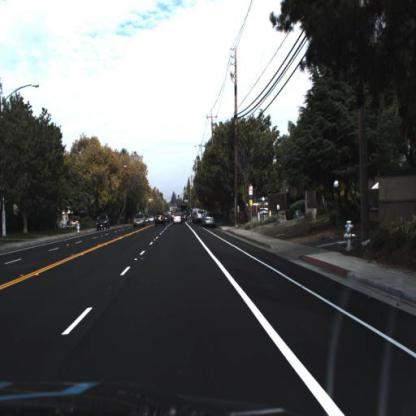car: (95, 210, 112, 232), (133, 212, 149, 230), (206, 211, 218, 230), (153, 211, 165, 229), (173, 212, 184, 224)
